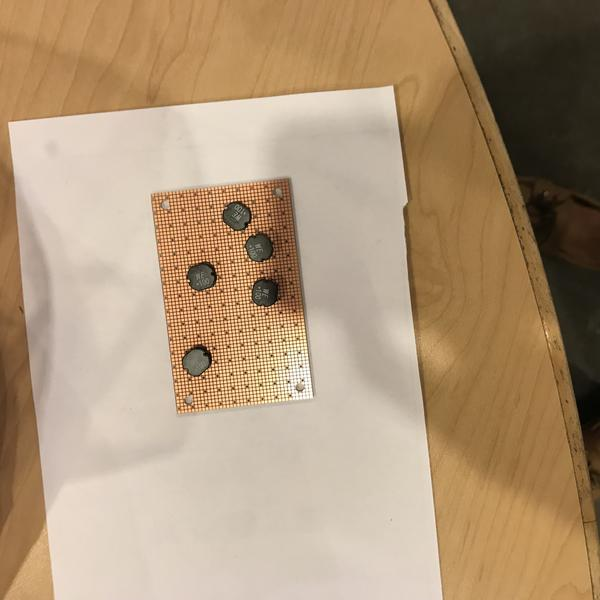board: (149, 177, 317, 416)
